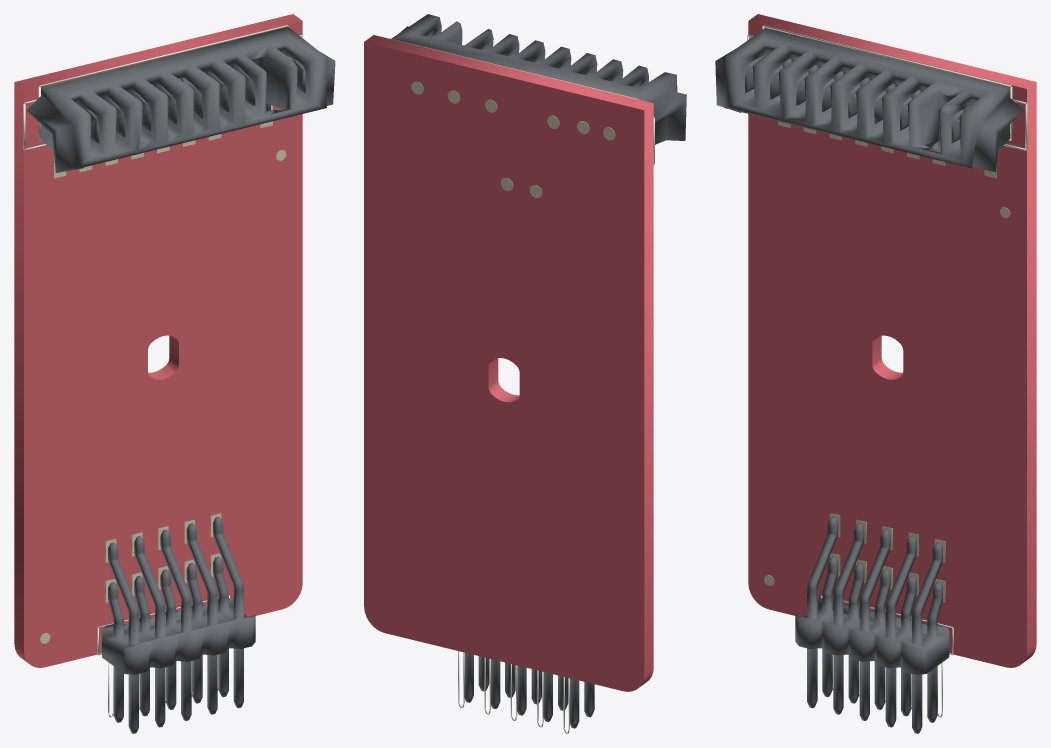
Rendered from pcb-conn-amp.glb.
The picture shows the model from 3 angles, left to right: view 1: azimuth 30°, elevation 25°; view 2: azimuth 150°, elevation 25°; view 3: azimuth 330°, elevation 25°; orthographic projection.
Visible parts, largest first — view 1: pcb, body, pads, silk; view 2: pcb, body, silk, pads; view 3: pcb, body, pads, silk.
Part boxes in pixels (x1,y1,x2,y2): pcb: (14,14,302,667); body: (26,27,335,733); pads: (40,105,286,643); silk: (23,25,303,717); pcb: (364,35,653,691); body: (391,14,686,728); silk: (389,38,654,733); pads: (411,81,615,197); pcb: (748,14,1036,667); body: (715,28,1024,733); pads: (764,121,1010,602); silk: (747,25,1027,717).
Size of the model in its own units: 27.15 by 60.06 by 8.34.
